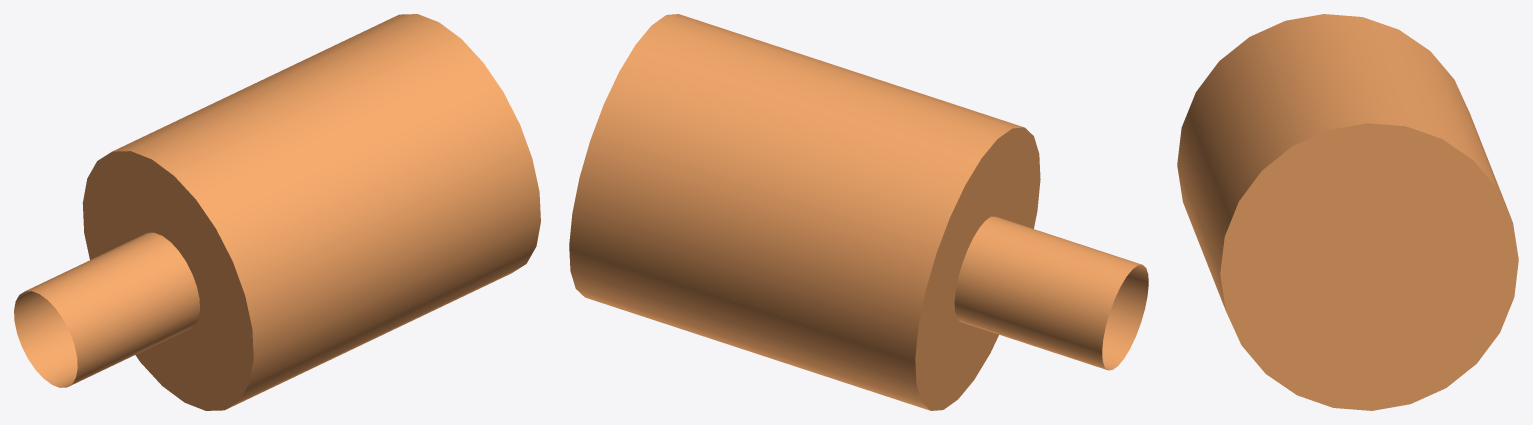
Rendered from RightArm.FBX.
3 views of the same model, side by side, from view 1: azimuth 30°, elevation 25°; view 2: azimuth 150°, elevation 25°; view 3: azimuth 270°, elevation 25° (orthographic). The views are drawn at different scales.
Parts seen in each view (by area): view 1: RightArm; view 2: RightArm; view 3: RightArm.
Boxes of the visible parts, left/top/right/bottom form: RightArm: left=14, top=14, right=540, bottom=410; RightArm: left=569, top=14, right=1148, bottom=410; RightArm: left=1177, top=14, right=1518, bottom=410.
Bounding box in the file's own units: 4.76 × 2.92 × 2.83.
